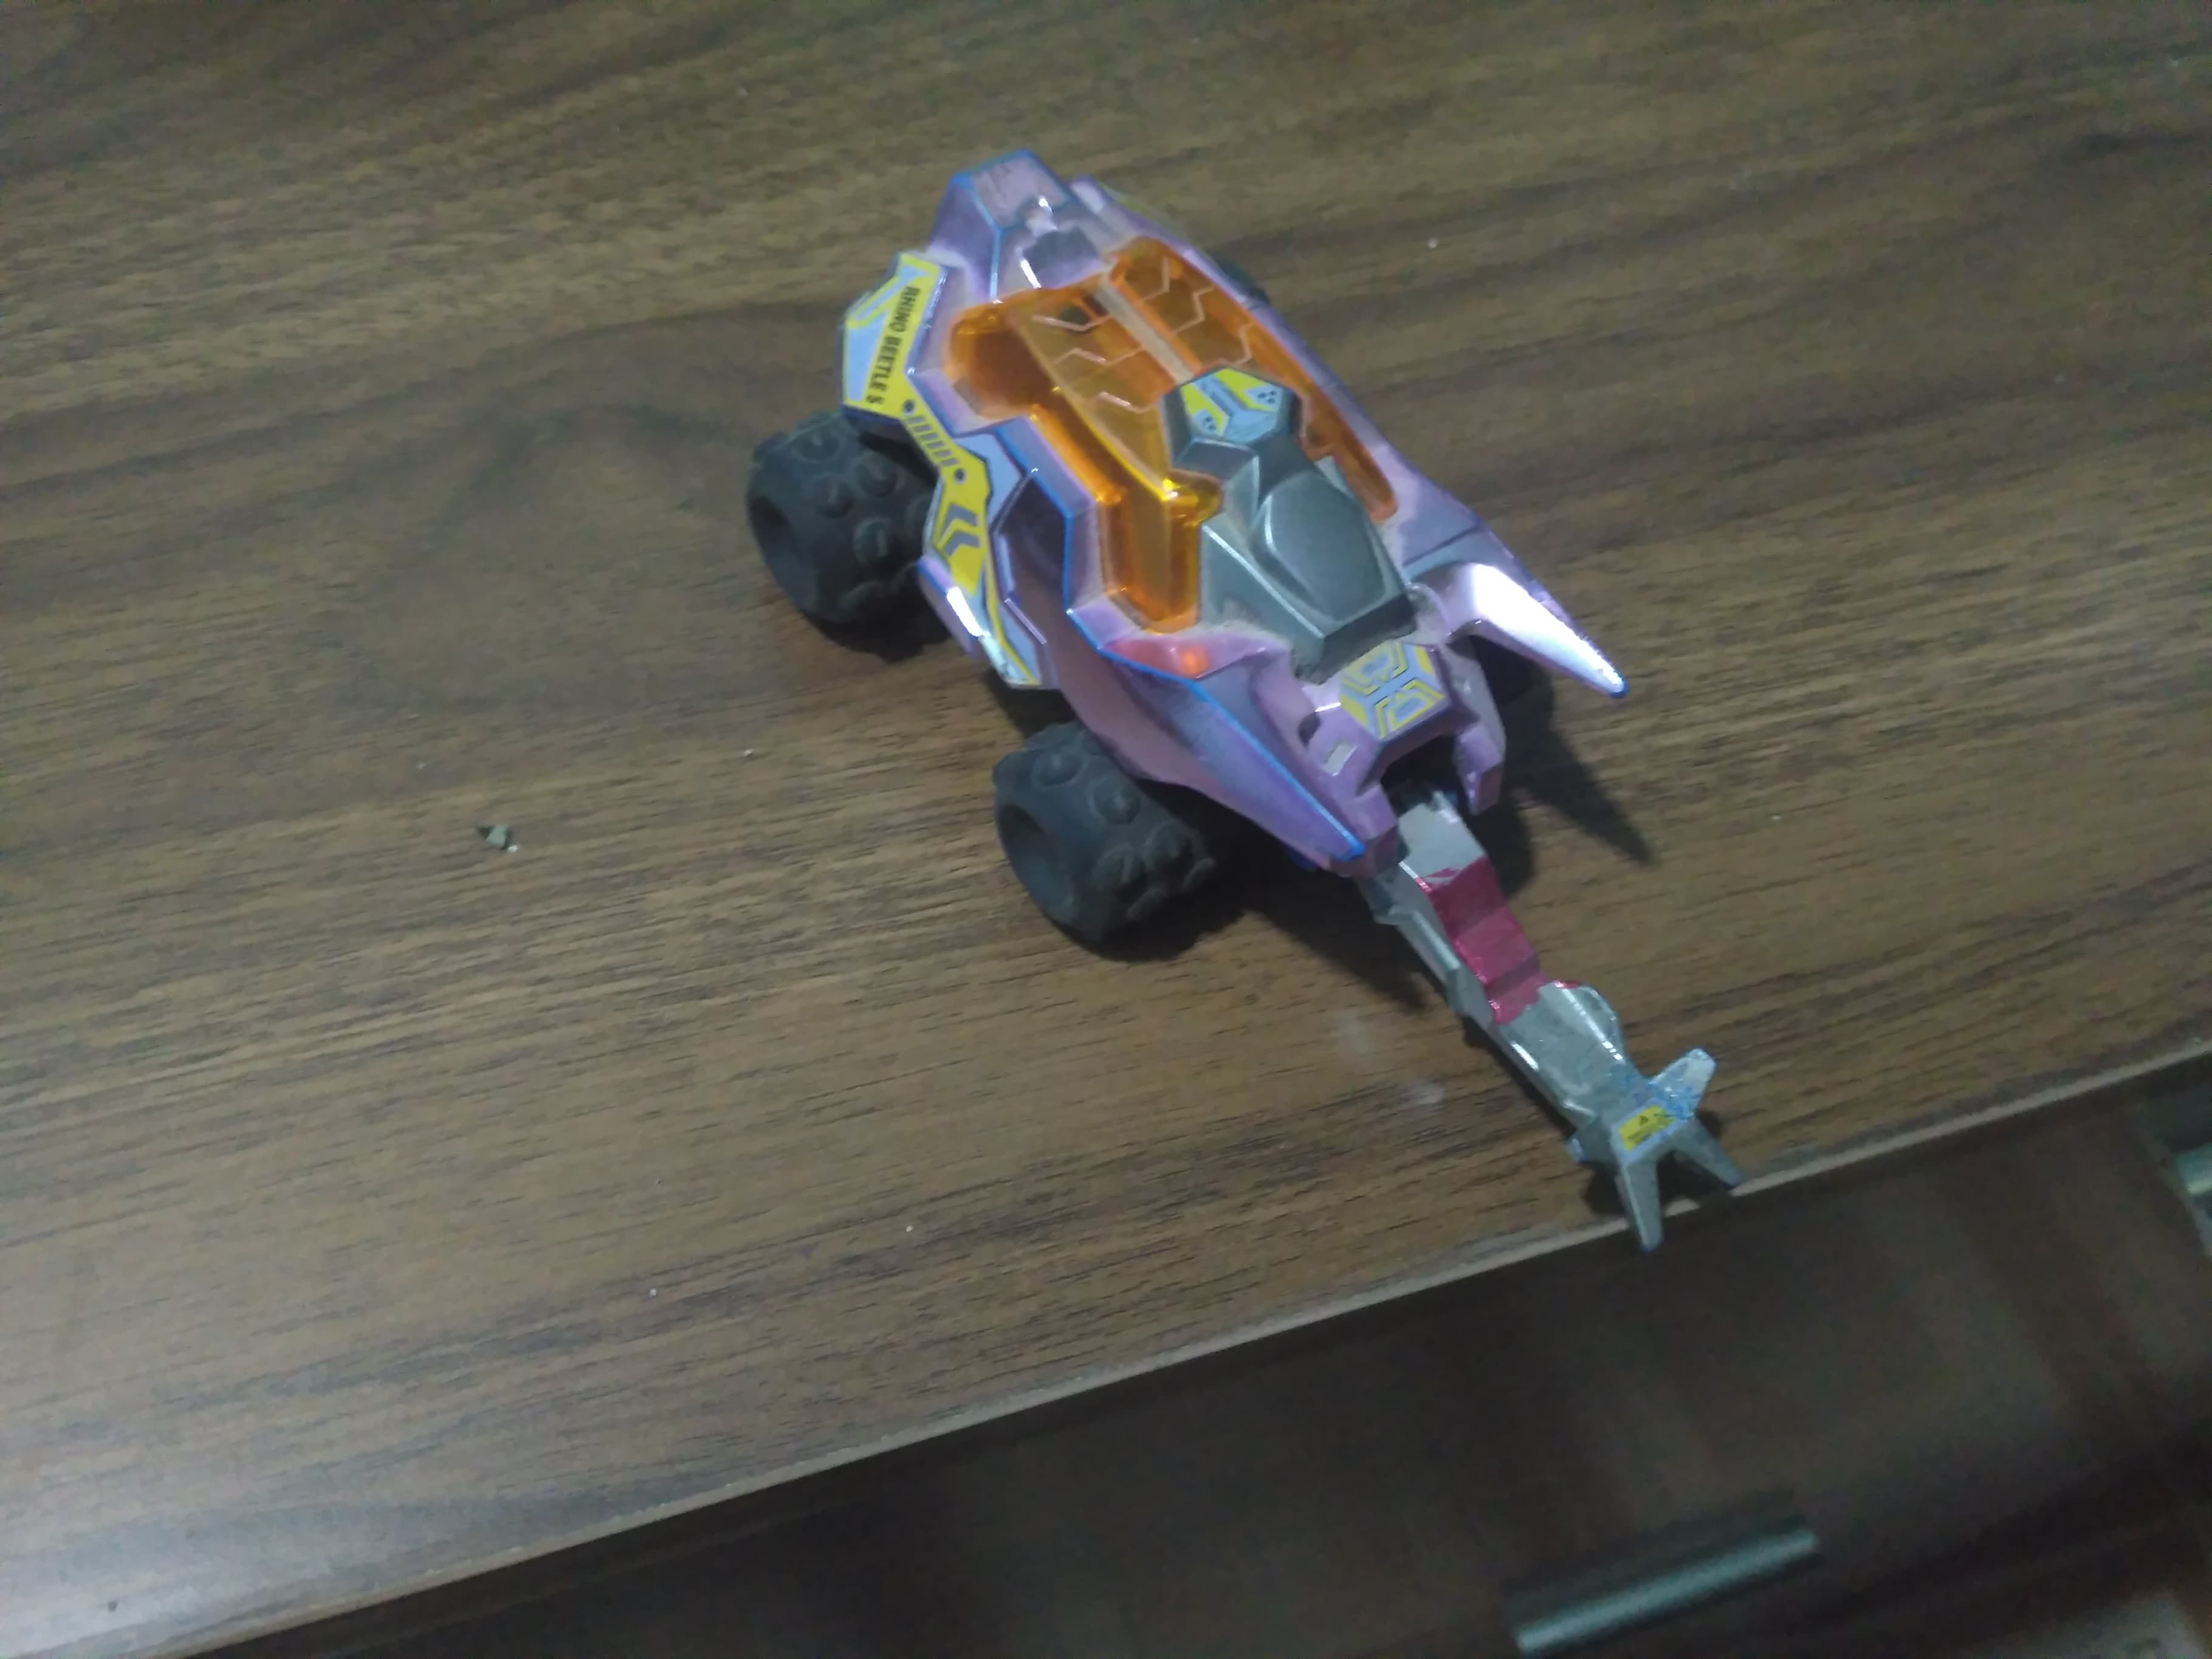rhino: (726, 145, 1759, 1270)
